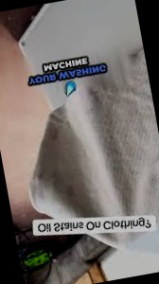oil: (54, 174, 82, 202), (47, 125, 66, 142)
